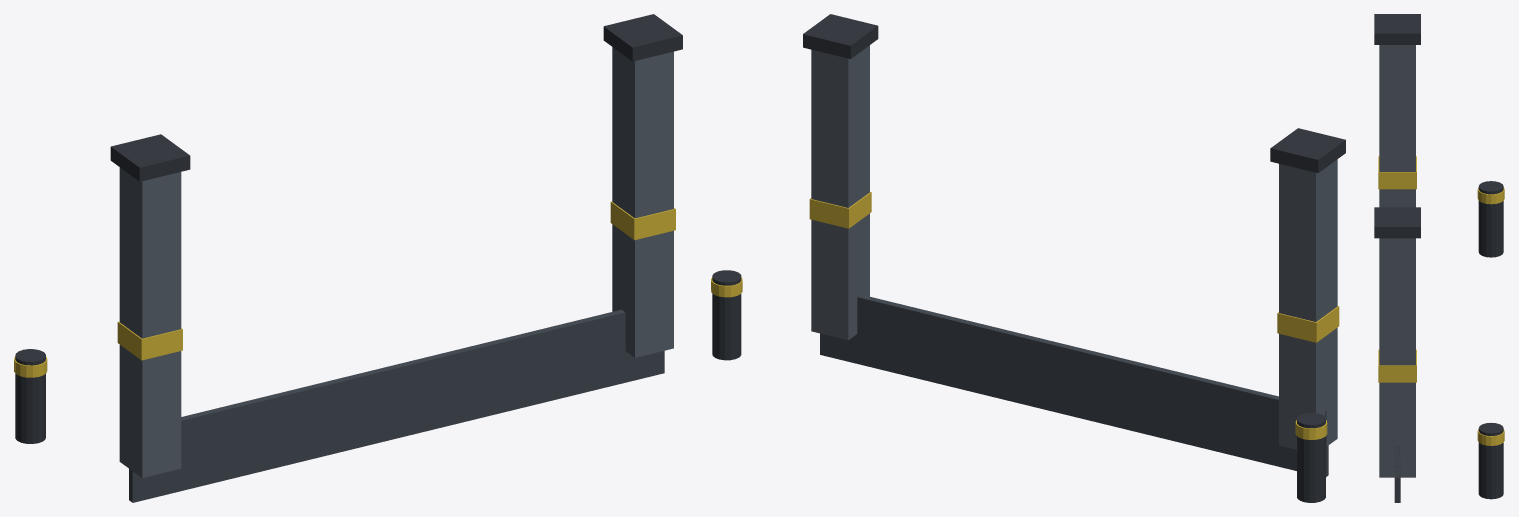
Rendered from dock-gate.glb.
3 views of the same model, side by side, from view 1: azimuth 30°, elevation 25°; view 2: azimuth 150°, elevation 25°; view 3: azimuth 270°, elevation 25° (orthographic). The views are drawn at different scales.
Parts seen in each view (by area): view 1: threshold, pillar, pillar.001, pcap, pcap.001, bollard, pband, pband.001; view 2: threshold, pillar.001, pillar, pcap, pcap.001, bollard.001, bollard, pband, pband.001; view 3: pillar.001, pillar, bollard, bollard.001, pcap.001, pcap, pband, pband.001, bcollar, bcollar.001, threshold.
Boxes of the visible parts, x1=… form: threshold: x1=129, y1=309, x2=664, y2=502; pillar: x1=119, y1=167, x2=181, y2=477; pillar.001: x1=612, y1=47, x2=673, y2=357; pcap: x1=110, y1=134, x2=190, y2=181; pcap.001: x1=603, y1=14, x2=682, y2=61; bollard: x1=15, y1=349, x2=45, y2=443; pband: x1=117, y1=321, x2=182, y2=360; pband.001: x1=610, y1=201, x2=675, y2=240; threshold: x1=820, y1=294, x2=1328, y2=476; pillar.001: x1=811, y1=45, x2=869, y2=340; pillar: x1=1279, y1=159, x2=1337, y2=449; pcap: x1=1270, y1=128, x2=1345, y2=173; pcap.001: x1=803, y1=14, x2=878, y2=58; bollard.001: x1=712, y1=270, x2=741, y2=360; bollard: x1=1297, y1=412, x2=1325, y2=502; pband: x1=1277, y1=306, x2=1339, y2=342; pband.001: x1=809, y1=192, x2=871, y2=228; pillar.001: x1=1379, y1=238, x2=1415, y2=477; pillar: x1=1379, y1=45, x2=1415, y2=207; bollard: x1=1478, y1=181, x2=1503, y2=257; bollard.001: x1=1478, y1=422, x2=1503, y2=499; pcap.001: x1=1374, y1=207, x2=1420, y2=238; pcap: x1=1374, y1=14, x2=1420, y2=44; pband: x1=1378, y1=156, x2=1416, y2=189; pband.001: x1=1378, y1=349, x2=1416, y2=382; bcollar: x1=1477, y1=187, x2=1504, y2=204; bcollar.001: x1=1477, y1=429, x2=1504, y2=445; threshold: x1=1394, y1=446, x2=1400, y2=502.
Bounding box in the file's own units: 5.76 × 2.95 × 1.25.
